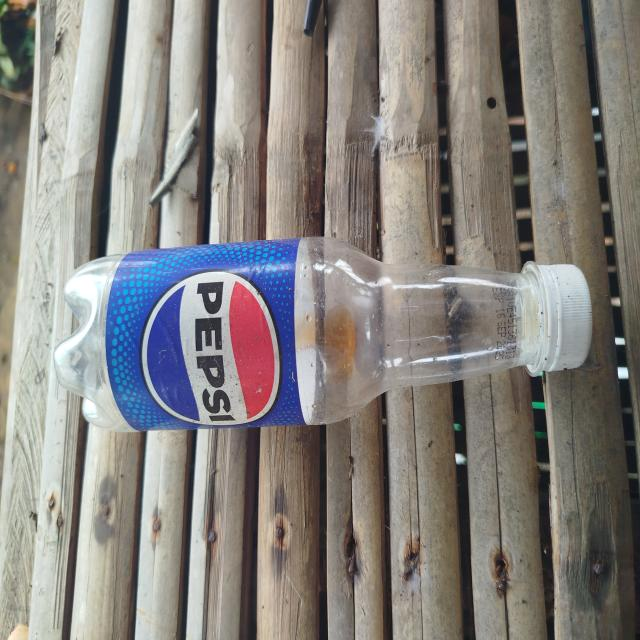plastic: (48, 225, 598, 447)
